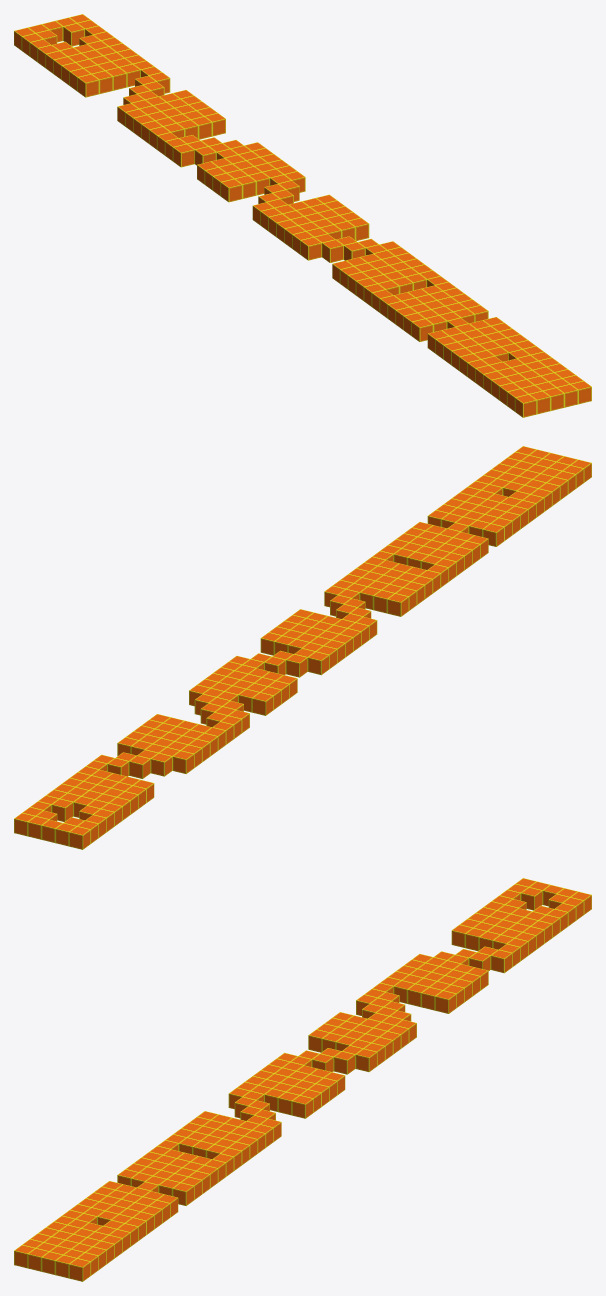
Rendered from map1.fbx.
The picture shows the model from 3 angles, top to bottom: view 1: azimuth 30°, elevation 25°; view 2: azimuth 150°, elevation 25°; view 3: azimuth 330°, elevation 25°; orthographic projection.
Size of the model in its own units: 50 by 10 by 640.
1 material, 1 textured.
